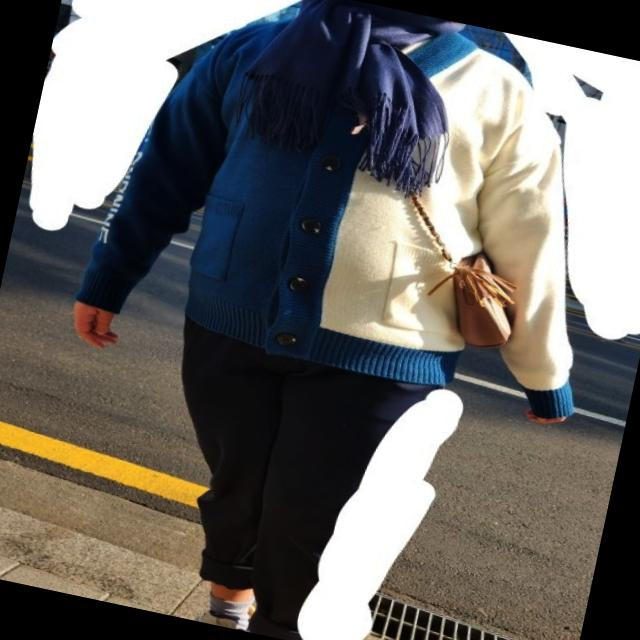cardigan: (75, 0, 640, 421)
cottonpants: (124, 319, 443, 640)
